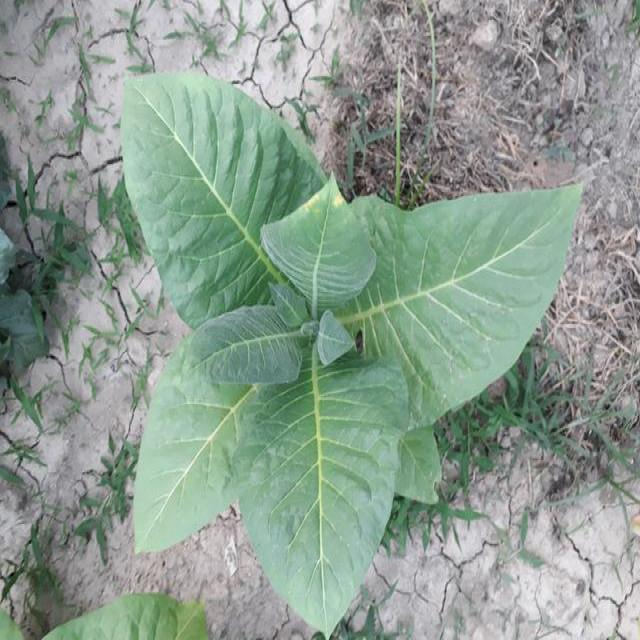crop: (121, 74, 588, 640)
